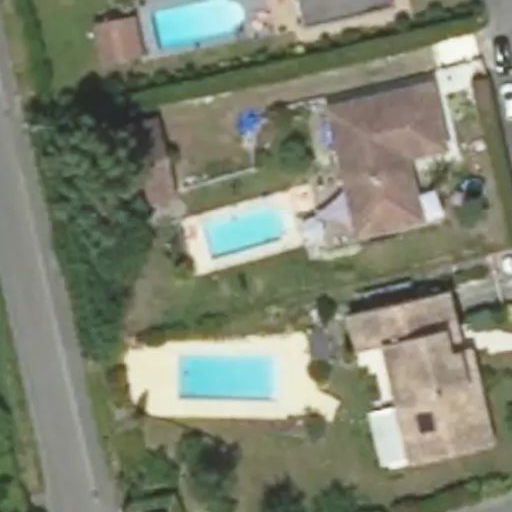pool: (215, 233, 296, 250)
